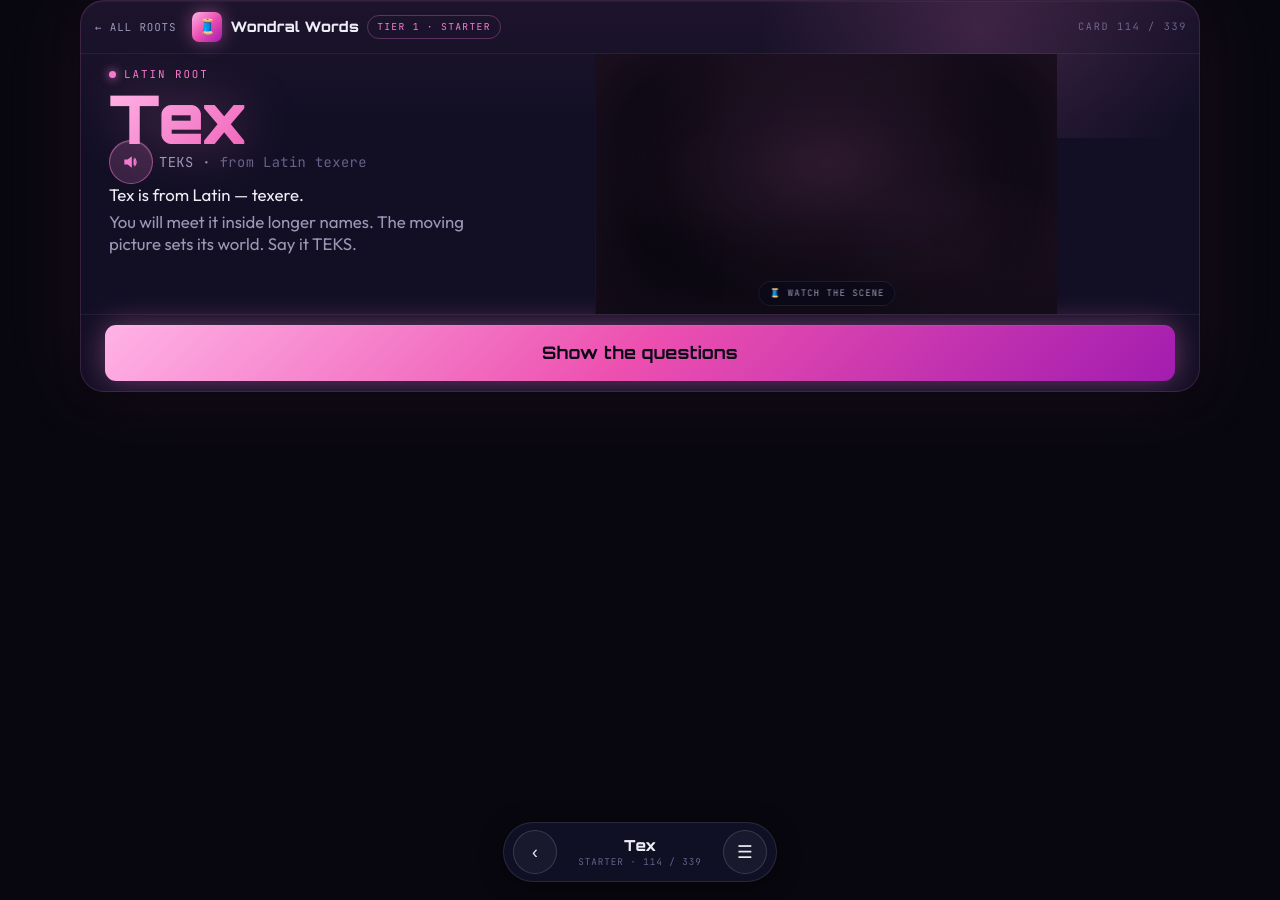
it: what the kid sees on a new card › shows a new Tex intro before any question
The image size is (1280, 900).
Click the button "Show the questions".
click(640, 353)  # box left=105, top=325, right=1175, bottom=381
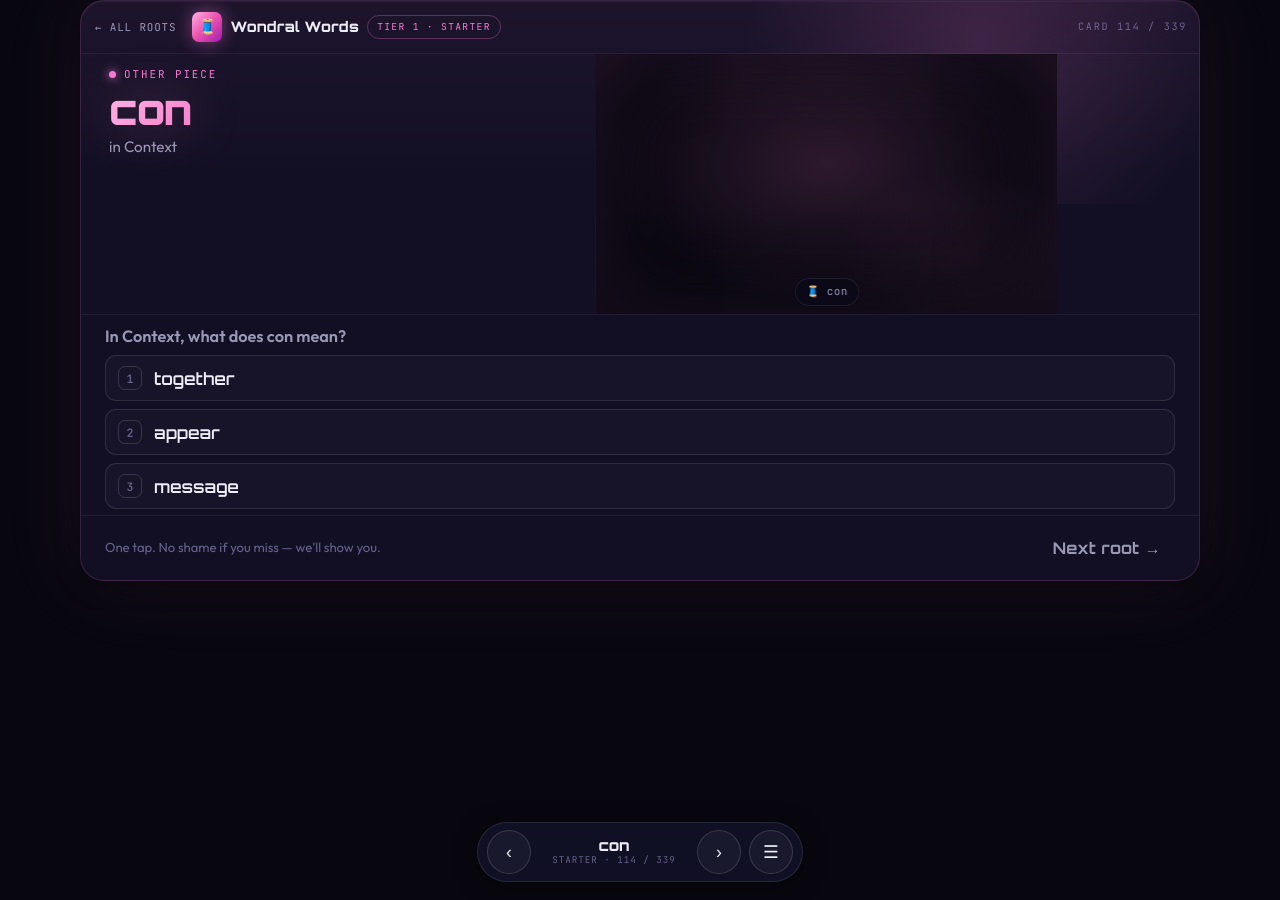
Now the button with class "ww-recall-opt" showing "1 together" is shown, box left=105, top=355, right=1175, bottom=401
Now the text "Show the questions" is gone
